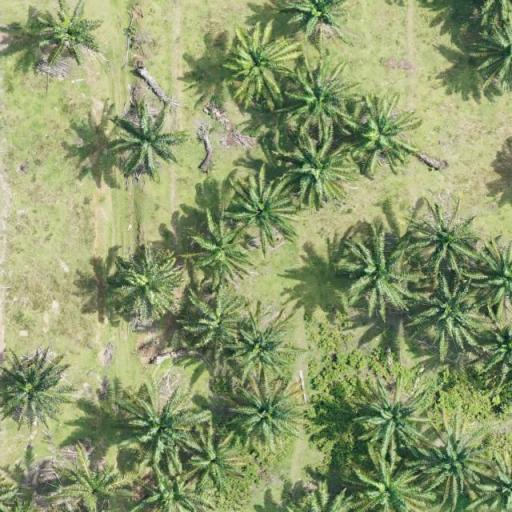Ganoderma: (230, 40, 286, 90), (356, 106, 408, 154), (46, 10, 96, 54)
